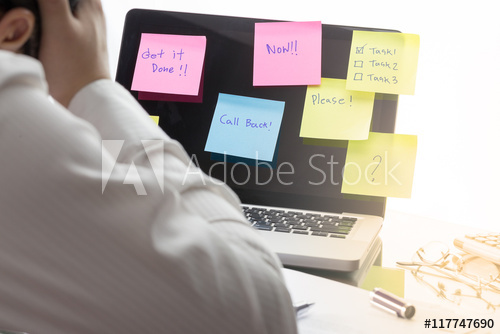Note: (205, 93, 284, 163), (342, 131, 417, 197), (346, 31, 421, 97), (299, 77, 375, 141), (252, 18, 322, 87), (131, 31, 204, 96)
